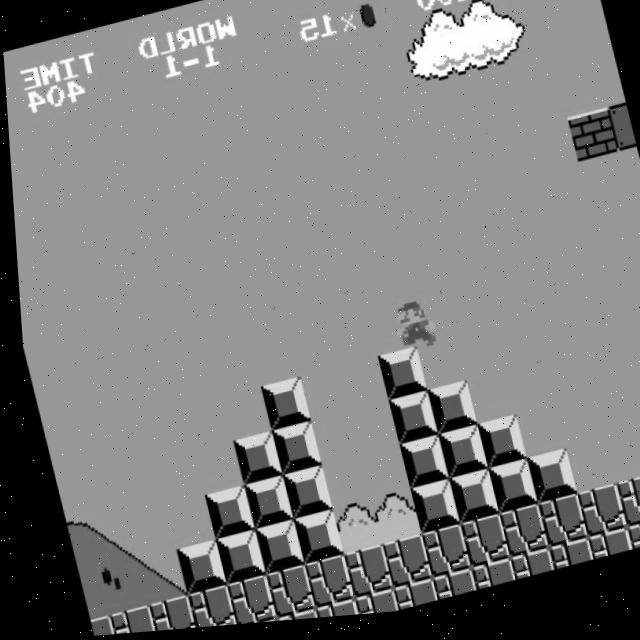1- brick_block: (564, 117, 615, 171)
11- little_mario: (382, 301, 436, 360)
17- undestructible_block: (256, 567, 307, 623), (568, 492, 619, 547), (529, 501, 580, 556), (490, 511, 541, 566), (451, 520, 502, 575), (412, 530, 463, 585), (373, 539, 424, 594), (334, 549, 385, 604), (295, 558, 346, 613), (217, 577, 268, 628), (177, 587, 228, 631), (139, 596, 189, 633), (607, 482, 640, 537), (500, 555, 546, 588), (100, 606, 150, 636), (579, 536, 624, 569), (423, 574, 468, 607), (539, 546, 585, 578), (383, 584, 429, 616), (462, 565, 507, 597), (344, 593, 390, 620), (306, 602, 351, 623), (618, 526, 640, 559), (80, 614, 110, 637), (266, 611, 311, 625)
3- empty_block: (603, 112, 634, 162)
9- hard_block: (285, 513, 336, 569), (235, 478, 286, 534), (480, 466, 531, 521), (441, 475, 492, 530), (371, 351, 422, 406), (402, 485, 453, 540), (254, 380, 305, 435), (246, 523, 297, 578), (196, 488, 247, 543), (420, 387, 471, 441), (381, 396, 432, 450), (264, 425, 315, 479), (225, 435, 276, 489), (519, 456, 569, 511), (470, 422, 520, 477), (431, 431, 481, 486), (392, 441, 442, 496), (275, 469, 325, 524), (207, 533, 257, 588), (168, 542, 218, 597)
